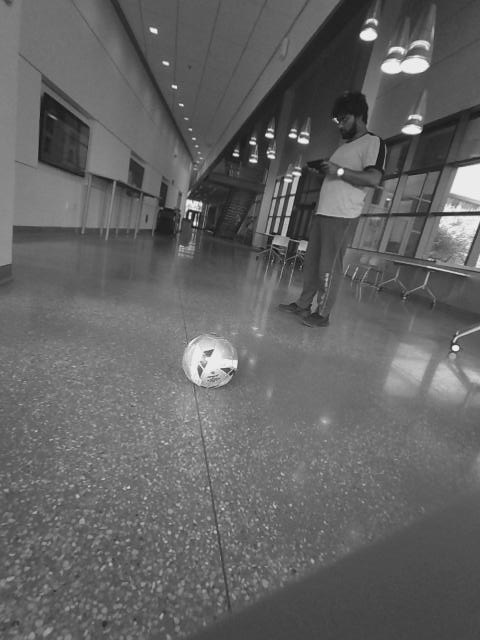ball: (179, 331, 241, 388)
